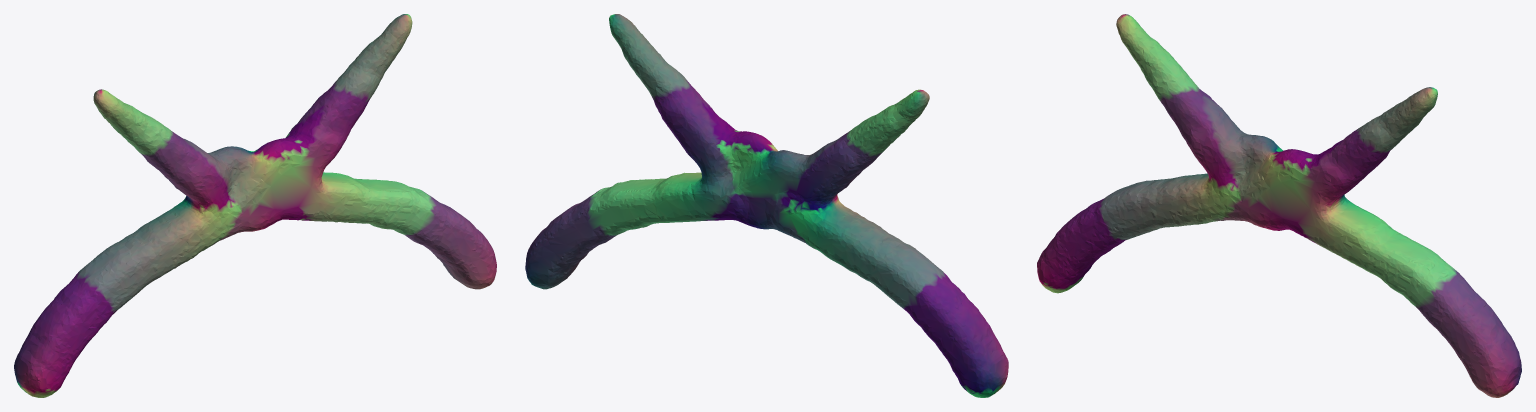
File: pliers-14.off.obj
The picture shows the model from 3 angles, left to right: view 1: azimuth 30°, elevation 25°; view 2: azimuth 150°, elevation 25°; view 3: azimuth 330°, elevation 25°; orthographic projection.
Size of the model in its own units: 1.65 by 0.9669 by 0.1612.
